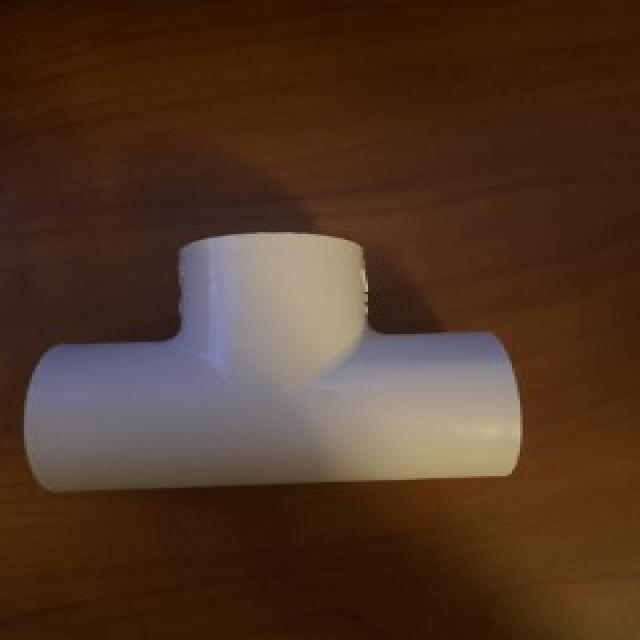T Joint: (21, 232, 523, 496)
